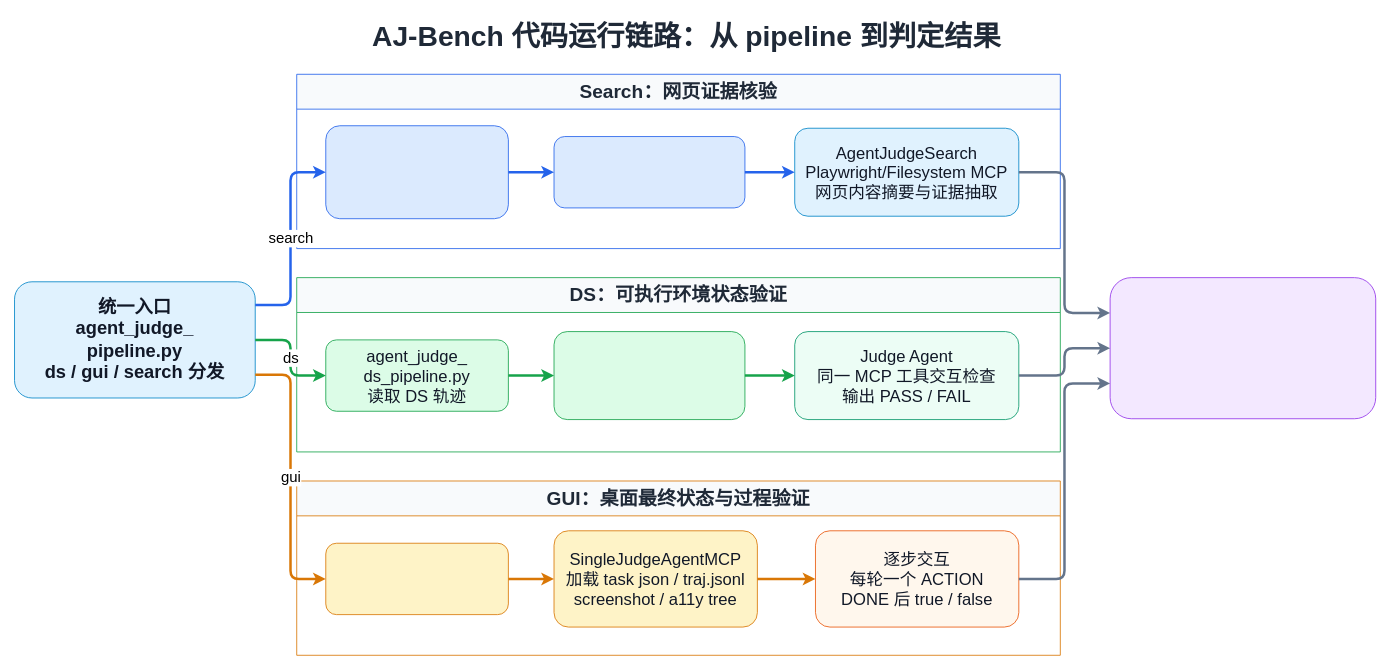
This 1390x670 diagram has some shape labels left out. The centre of each missing label's shape, as x and y in pixels:
agent_judge_ gui_pipeline.py 队列 / 多进程 / AWS: point (416, 578)
agent_judge_ search_pipeline.py 模型 / 温度 tasks_root: point (416, 172)
JudgeEvaluator 环境 setup 回放 messages.json: point (649, 375)
MCPEvaluator Setup → Execute → Verify → Cleanup: point (649, 172)
结果落盘与聚合 messages.json meta.json / summary.json Accuracy / Precision Recall / F1: point (1242, 348)
